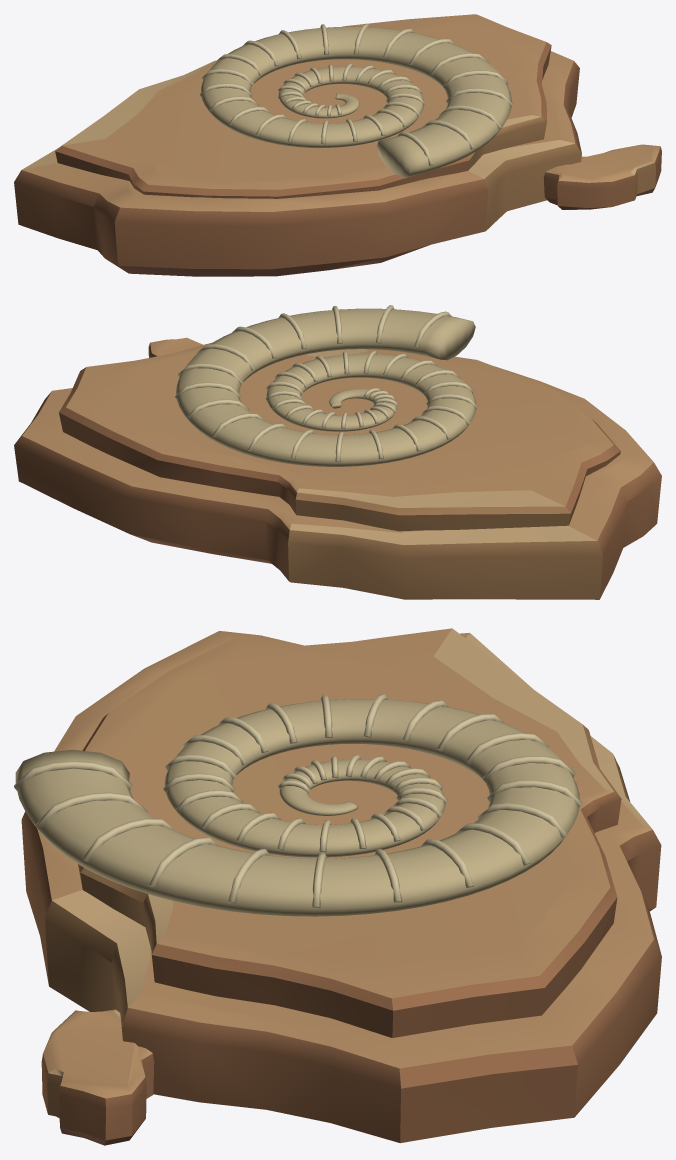
Rendered from fw_petra_raw_fossil.hi.glb.
The picture shows the model from 3 angles, top to bottom: view 1: azimuth 30°, elevation 25°; view 2: azimuth 150°, elevation 25°; view 3: azimuth 270°, elevation 25°; orthographic projection. The views are drawn at different scales.
Visible parts, largest first — view 1: body; view 2: body; view 3: body.
Part boxes in pixels (x1,y1,x2,y2): body: [14, 14, 661, 276]; body: [14, 305, 661, 599]; body: [14, 628, 661, 1145].
Size of the model in its own units: 2.23 by 0.4392 by 1.4.
